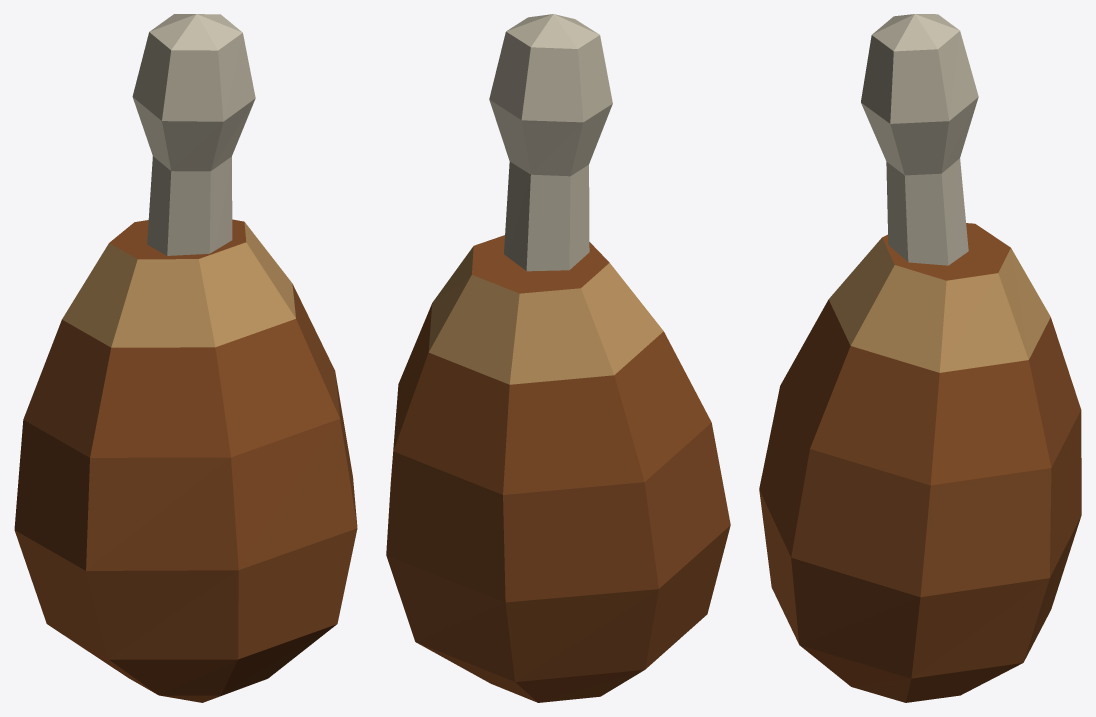
Rendered from cooked_meat.gltf.
The picture shows the model from 3 angles, left to right: view 1: azimuth 30°, elevation 25°; view 2: azimuth 150°, elevation 25°; view 3: azimuth 270°, elevation 25°; orthographic projection.
Parts seen in each view (by area): view 1: cooked_meat; view 2: cooked_meat; view 3: cooked_meat.
Part boxes in pixels (<box>): cooked_meat: <box>14,14,357,702</box>; cooked_meat: <box>386,14,730,702</box>; cooked_meat: <box>759,14,1081,702</box>.
Size of the model in its own units: 0.1426 by 0.3081 by 0.1311.
